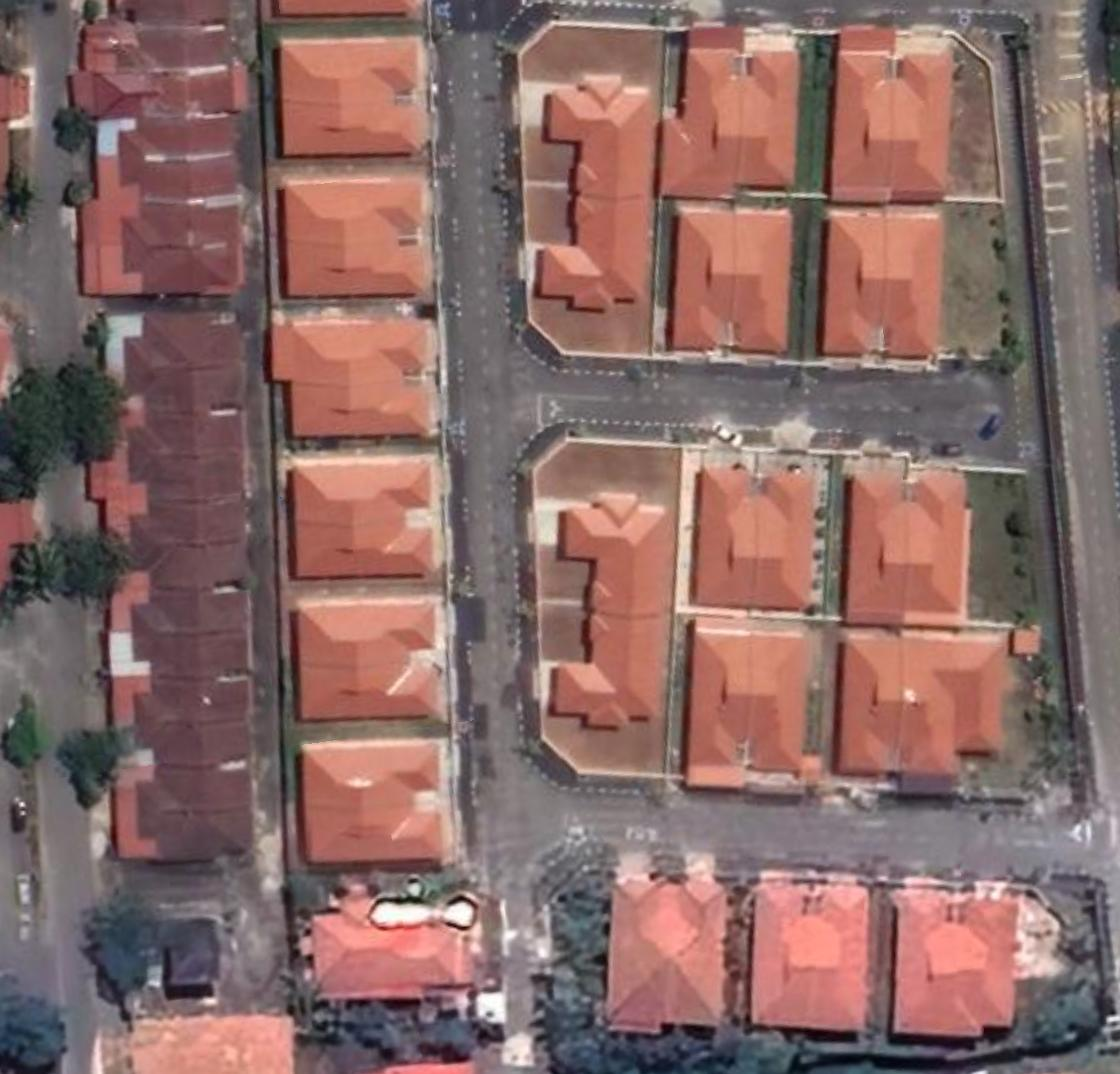building: (308, 882, 490, 1006), (653, 16, 750, 207), (536, 60, 658, 210), (552, 485, 673, 626), (905, 629, 1007, 790), (537, 620, 674, 739), (526, 200, 656, 322), (824, 18, 906, 206), (742, 623, 832, 791), (599, 866, 678, 1044), (672, 608, 748, 793), (262, 316, 438, 394), (280, 448, 442, 532), (746, 864, 822, 1035), (815, 200, 894, 363), (288, 596, 449, 675), (829, 626, 908, 787), (292, 736, 451, 815), (836, 466, 912, 630), (883, 878, 958, 1044), (718, 202, 795, 362), (272, 174, 430, 250), (66, 64, 257, 126), (955, 882, 1025, 1048), (684, 460, 760, 612), (75, 12, 240, 82), (880, 200, 950, 364), (268, 33, 430, 102), (661, 197, 728, 358), (298, 802, 454, 871), (272, 98, 434, 163), (288, 662, 454, 725), (914, 460, 975, 630), (278, 384, 444, 446), (896, 43, 958, 206), (117, 306, 254, 378), (276, 246, 440, 306), (818, 870, 876, 1038), (675, 868, 732, 1038), (754, 462, 817, 612), (743, 43, 804, 194), (284, 526, 443, 582), (112, 368, 251, 422), (120, 590, 256, 644), (122, 728, 262, 778), (122, 638, 258, 688), (122, 684, 257, 734), (114, 208, 248, 258), (119, 464, 253, 514), (128, 818, 258, 869), (122, 506, 252, 554), (108, 120, 240, 167), (126, 549, 255, 596), (126, 774, 261, 818), (112, 256, 251, 298), (116, 422, 255, 464), (111, 166, 243, 210)
